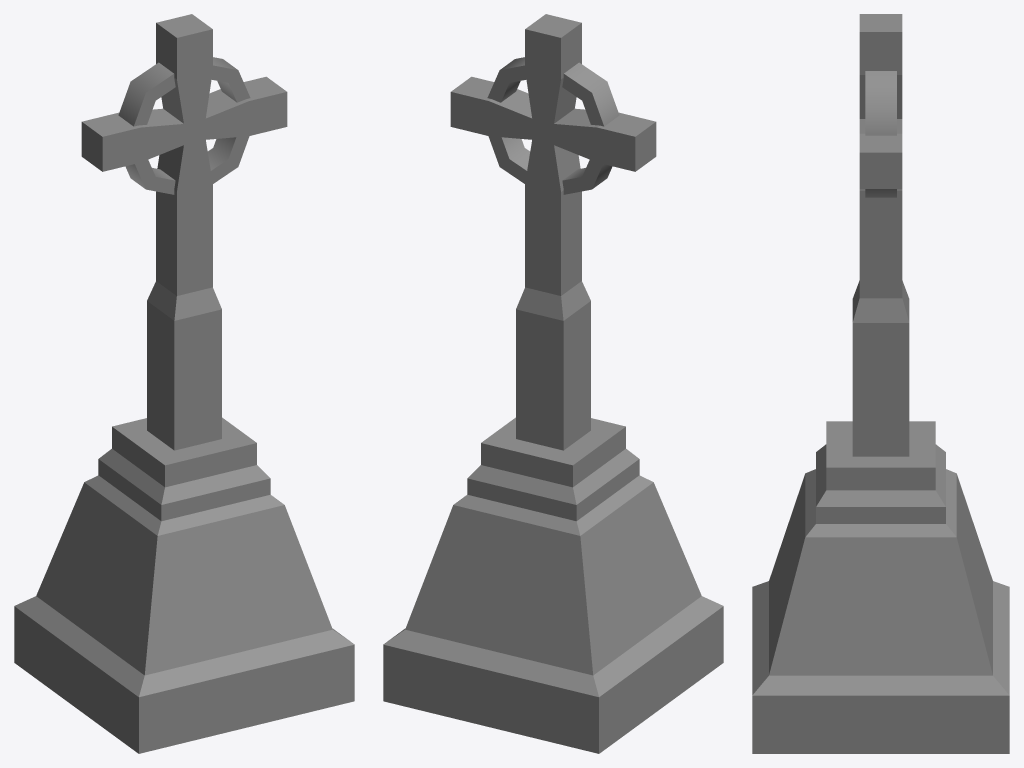
The model's file is Tombstone Cross 2.fbx.
3 views of the same model, side by side, from view 1: azimuth 30°, elevation 25°; view 2: azimuth 150°, elevation 25°; view 3: azimuth 270°, elevation 25° (orthographic). The views are drawn at different scales.
Parts seen in each view (by area): view 1: Tombstone Cross 2; view 2: Tombstone Cross 2; view 3: Tombstone Cross 2.
Boxes of the visible parts, x1,y1,x2,y2 form: Tombstone Cross 2: [14, 14, 354, 753]; Tombstone Cross 2: [383, 14, 723, 753]; Tombstone Cross 2: [752, 14, 1009, 753].
Size of the model in its own units: 69.31 by 201 by 69.31.
